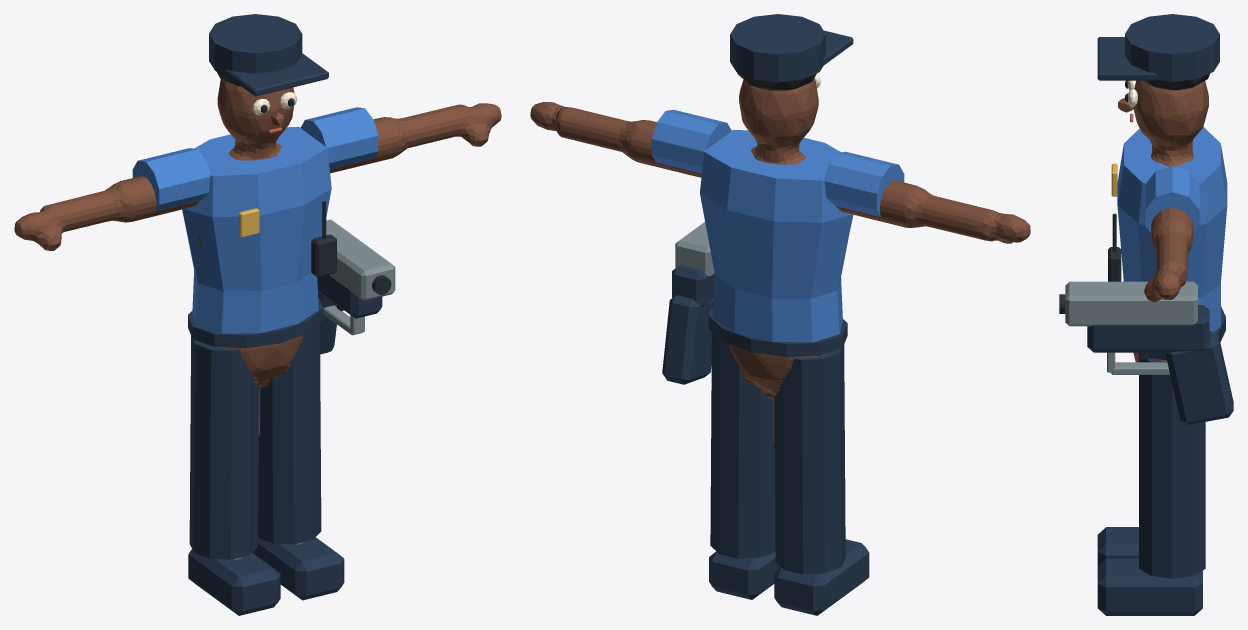
File: Character_Police.fbx
The picture shows the model from 3 angles, left to right: view 1: azimuth 30°, elevation 25°; view 2: azimuth 150°, elevation 25°; view 3: azimuth 270°, elevation 25°; orthographic projection. The views are drawn at different scales.
Parts seen in each view (by area): view 1: Shirt.011, Character_Police_Base_BaseMale_TPose_Body, PantsLeg.020, PantsLeg.021, CapCrown.003, Shoe.022, Shoe.023, Sleeve.022, Sleeve.023, PoliceHolsteredPistol_Slide, Belt.011, CapVisor.003 (+3 smaller); view 2: Shirt.011, Character_Police_Base_BaseMale_TPose_Body, PantsLeg.020, PantsLeg.021, CapCrown.003, Shoe.022, PoliceHolsteredPistol_Grip, Sleeve.022, Sleeve.023, Shoe.023, Belt.011, PoliceHolsteredPistol_Slide (+1 smaller); view 3: PantsLeg.021, Shirt.011, Character_Police_Base_BaseMale_TPose_Body, CapCrown.003, PoliceHolsteredPistol_Slide, Shoe.023, PoliceHolsteredPistol_Grip, PoliceHolsteredPistol_Frame, Sleeve.023, CapVisor.003, Shoe.022, PoliceHolsteredPistol_TriggerGuardLower (+3 smaller).
Boxes of the visible parts, x1,y1,x2,y2 form: Shirt.011: (182,126,331,333); Character_Police_Base_BaseMale_TPose_Body: (14,79,501,559); PantsLeg.020: (189,336,258,559); PantsLeg.021: (258,323,321,544); CapCrown.003: (209,14,302,74); Shoe.022: (188,549,280,615); Shoe.023: (252,537,344,600); Sleeve.022: (132,148,210,211); Sleeve.023: (300,107,378,170); PoliceHolsteredPistol_Slide: (326,219,395,300); Belt.011: (188,297,323,348); CapVisor.003: (225,53,328,96); Shirt.011: (700,130,853,342); Character_Police_Base_BaseMale_TPose_Body: (530,78,1030,448); PantsLeg.020: (774,344,845,574); PantsLeg.021: (710,332,775,558); CapCrown.003: (730,14,825,82); Shoe.022: (774,539,869,615); PoliceHolsteredPistol_Grip: (662,295,713,384); Sleeve.022: (824,151,904,217); Sleeve.023: (651,109,731,173); Shoe.023: (709,551,780,599); Belt.011: (708,308,847,357); PoliceHolsteredPistol_Slide: (675,222,714,276); PantsLeg.021: (1139,353,1205,578); Shirt.011: (1117,127,1227,331); Character_Police_Base_BaseMale_TPose_Body: (1133,80,1208,362); CapCrown.003: (1125,14,1219,81); PoliceHolsteredPistol_Slide: (1065,281,1197,326); Shoe.023: (1097,558,1202,615); PoliceHolsteredPistol_Grip: (1165,331,1233,424); PoliceHolsteredPistol_Frame: (1087,305,1209,352); Sleeve.023: (1145,166,1199,232); CapVisor.003: (1097,37,1157,80); Shoe.022: (1097,527,1138,565); PoliceHolsteredPistol_TriggerGuardLower: (1111,362,1169,374).
Bounding box in the file's own units: 1.68 × 1.82 × 0.5135.
